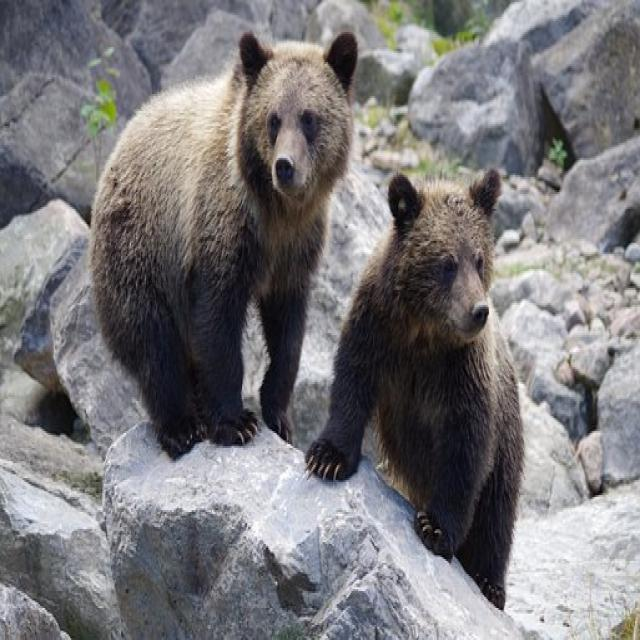Bear: (89, 32, 361, 461), (304, 169, 525, 612)
